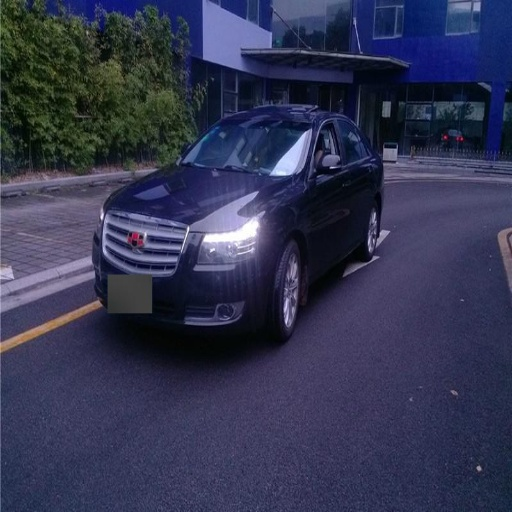front_bumper: (98, 216, 274, 334)
front_glass: (180, 112, 305, 174)
front_left_door: (310, 117, 351, 265)
